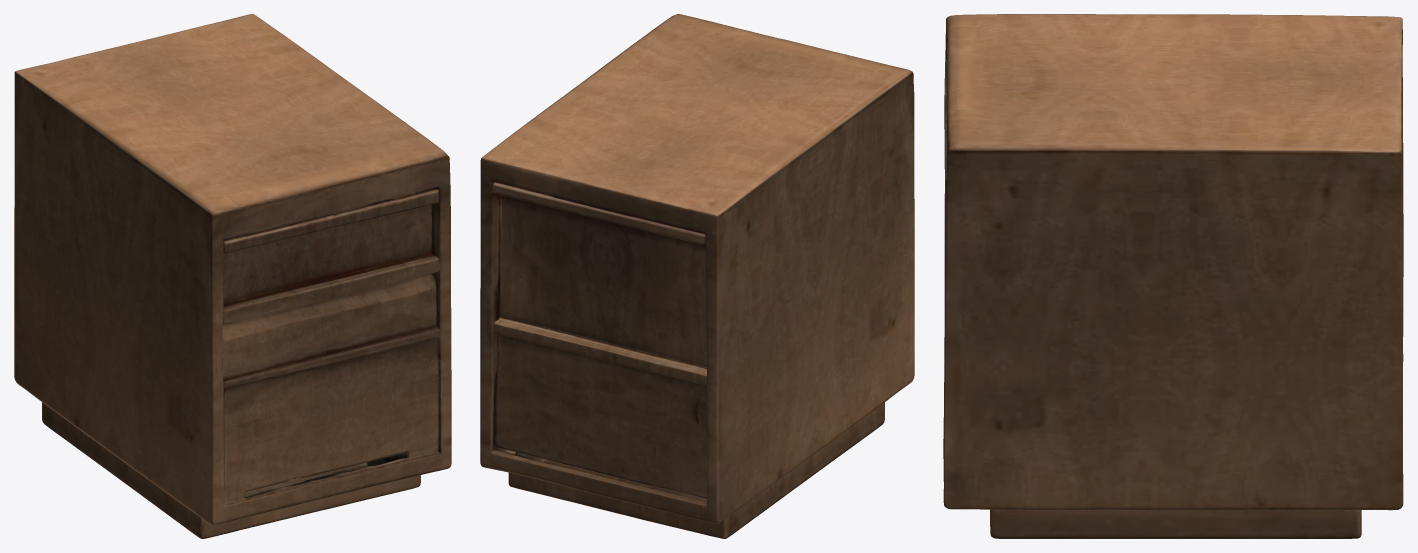
Rendered from bedside-table.glb.
3 views of the same model, side by side, from view 1: azimuth 30°, elevation 25°; view 2: azimuth 150°, elevation 25°; view 3: azimuth 270°, elevation 25° (orthographic). The views are drawn at different scales.
Visible parts, largest first — view 1: geometry_0; view 2: geometry_0; view 3: geometry_0.
Part boxes in pixels (x1=…): geometry_0: x1=14, y1=14, x2=451, y2=538; geometry_0: x1=480, y1=14, x2=914, y2=538; geometry_0: x1=943, y1=14, x2=1403, y2=538.
Bounding box in the file's own units: 0.36 × 0.5 × 0.52.
1 material, 1 textured.
